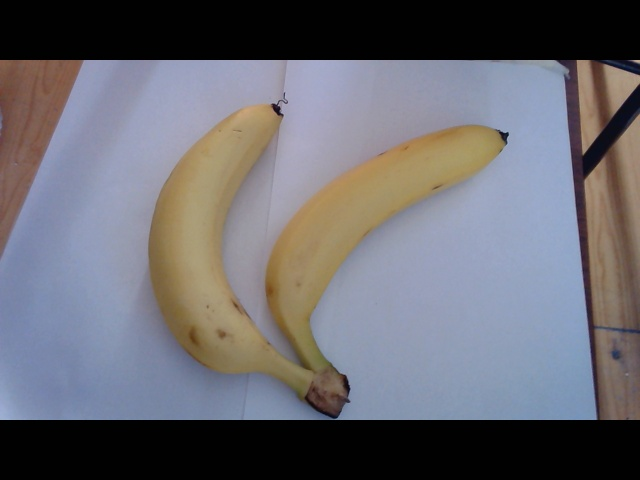banana: (271, 110, 514, 387), (135, 93, 272, 386)
